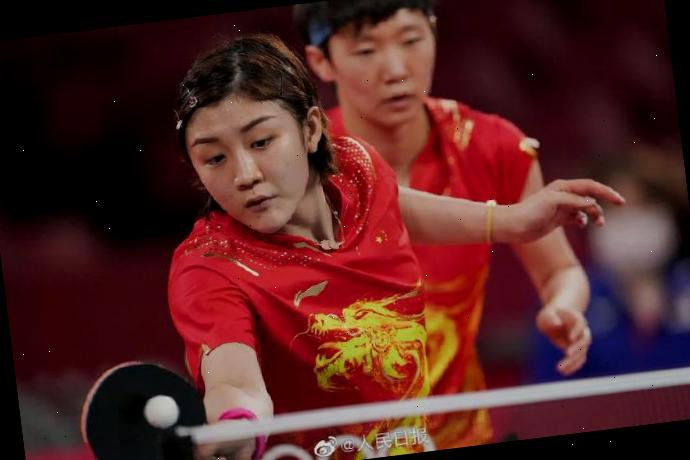ball: (137, 388, 184, 434)
